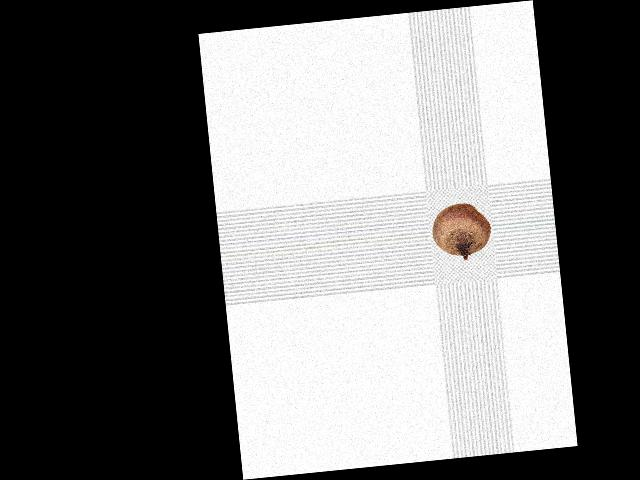beet: (430, 201, 493, 263)
